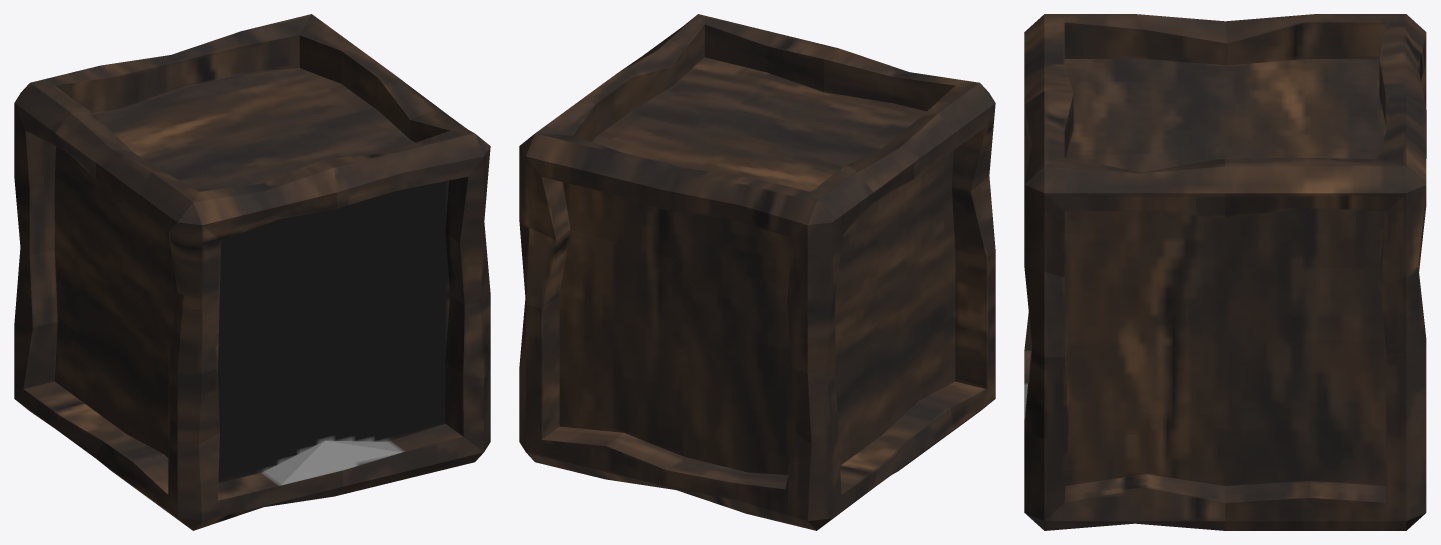
File: Meadows Wood Drawer.fbx
3 renders of one model, left to right at view 1: azimuth 30°, elevation 25°; view 2: azimuth 150°, elevation 25°; view 3: azimuth 270°, elevation 25°, orthographic. The views are drawn at different scales.
Parts seen in each view (by area): view 1: Cube; view 2: Cube; view 3: Cube.
Boxes of the visible parts, x1,y1,x2,y2 form: Cube: [14, 14, 490, 530]; Cube: [519, 14, 995, 530]; Cube: [1024, 14, 1426, 530].
Size of the model in its own units: 100 by 100 by 100.
1 material, 1 textured.
